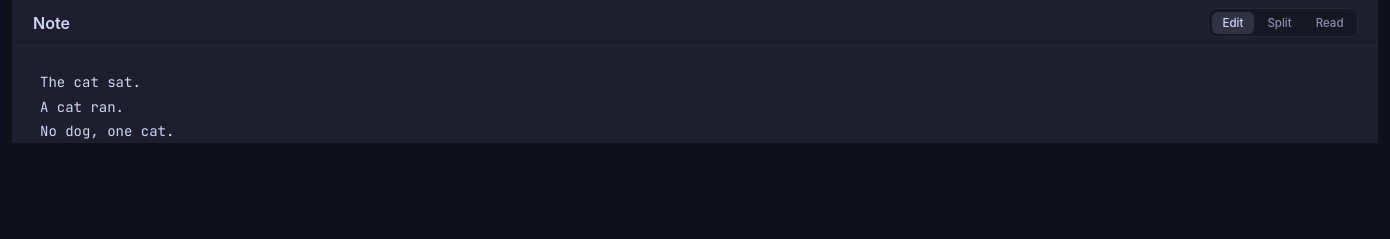
Replace (#547) › replaces all matches in one undoable edit and autosaves it
This screenshot has width=1390, height=239.
Press f
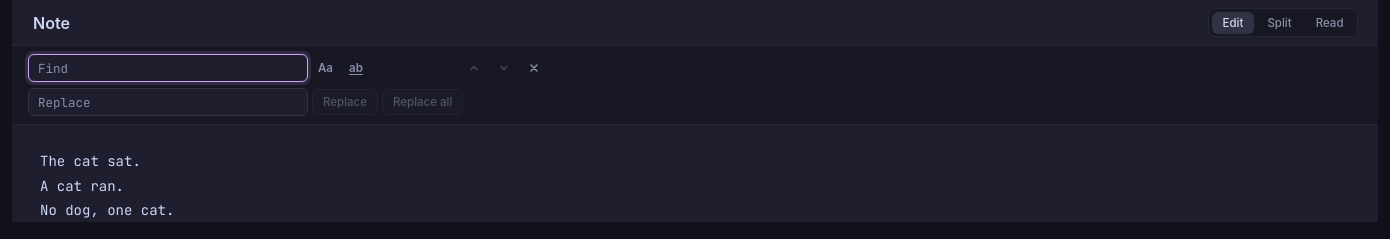
Type "cat" into the field labelled "Find".
click(168, 68); type("cat")  # box 28,54 -> 308,82
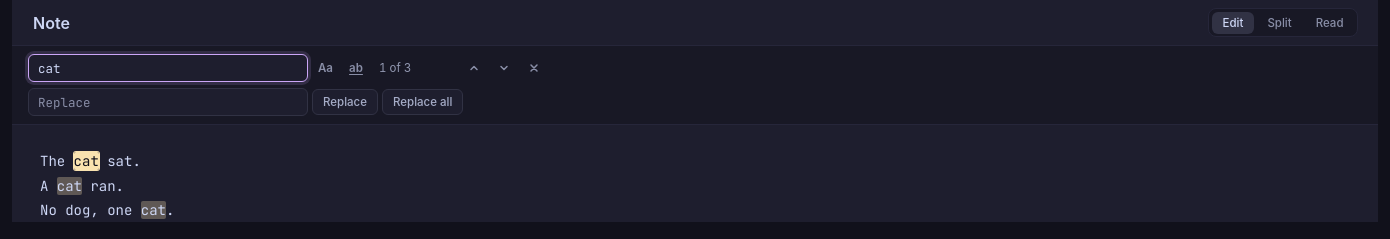
Type "dog" into the field named "Replace with".
click(168, 102); type("dog")  # box 28,88 -> 308,116
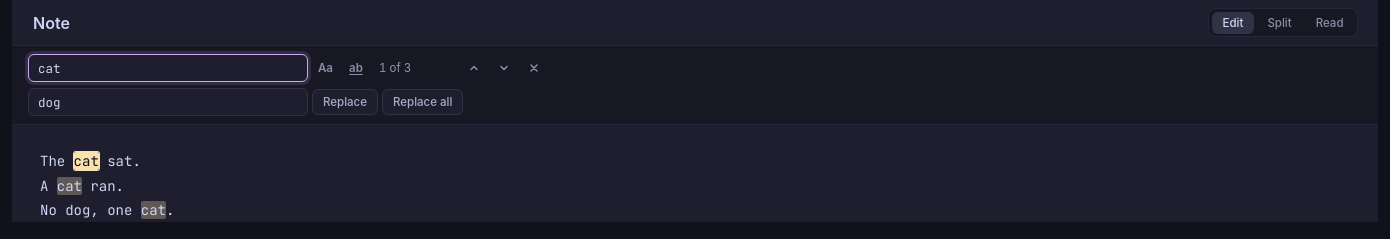
Click the button "Replace all".
click(423, 102)  # box 382,89 -> 463,115
Wait 1500 ms
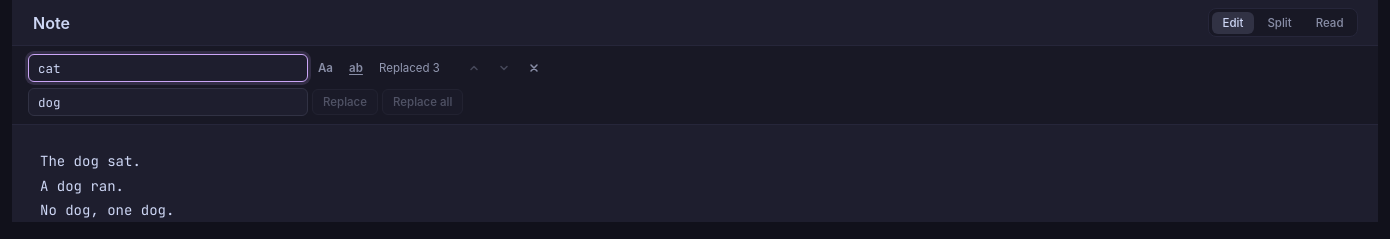
Now the text with class "find-bar-count" reads "Replaced 3", box 379,61 -> 440,75
